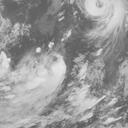cyclone: (67, 1, 124, 42)
